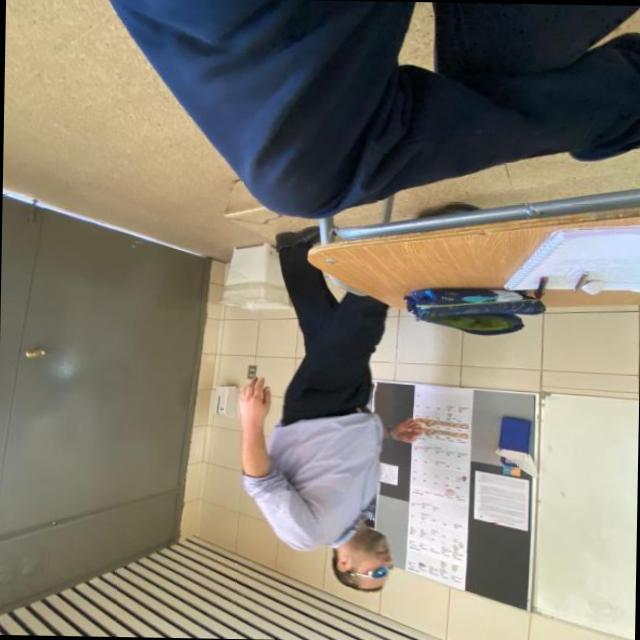person: (220, 230, 435, 607)
